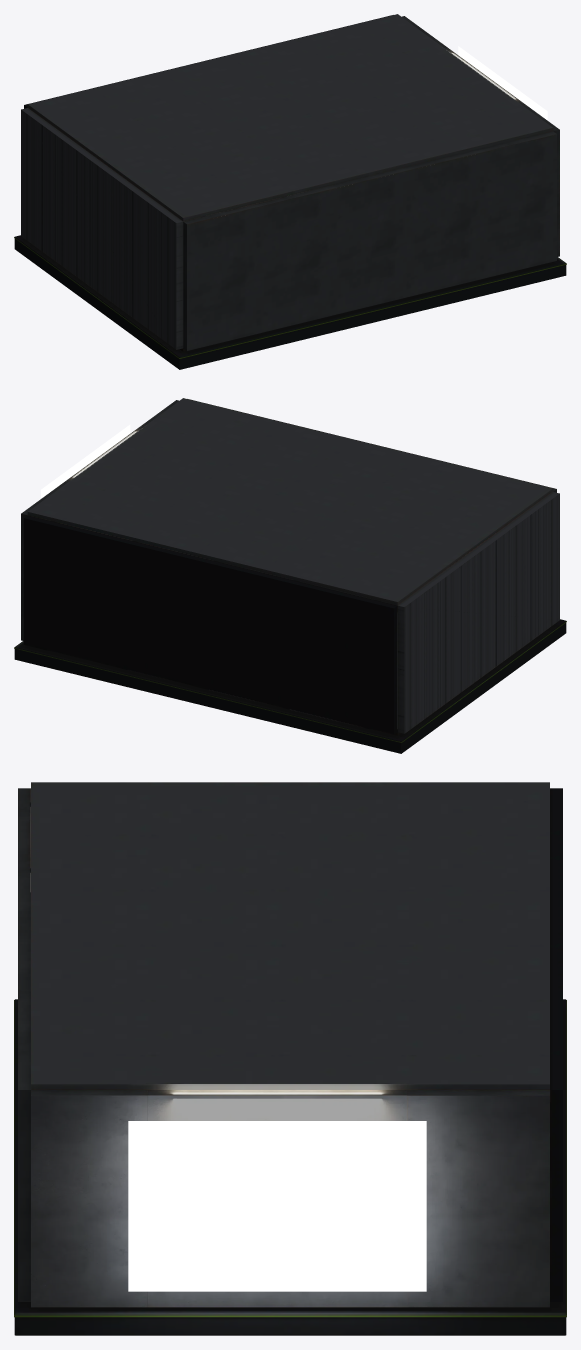
The model's file is conference.glb.
The picture shows the model from 3 angles, top to bottom: view 1: azimuth 30°, elevation 25°; view 2: azimuth 150°, elevation 25°; view 3: azimuth 270°, elevation 25°; orthographic projection. The views are drawn at different scales.
Visible parts, largest first — view 1: bake_ceiling, bake_wall_front, bake_wall_left, bake_floor, bake_wall_right, win_right0_sky; view 2: bake_ceiling, bake_wall_back, bake_wall_left, bake_floor, bake_wall_right, win_right0_sky; view 3: bake_ceiling, bake_wall_right, win_right0_sky, bake_floor, bake_wall_back, bake_wall_front.
Part boxes in pixels (box(x1,y1,x2,y2)): bake_ceiling: box(27, 14, 553, 221); bake_wall_front: box(183, 131, 556, 350); bake_wall_left: box(21, 108, 183, 349); bake_floor: box(14, 235, 566, 369); bake_wall_right: box(402, 16, 559, 256); win_right0_sky: box(458, 46, 547, 120); bake_ceiling: box(27, 398, 553, 605); bake_wall_back: box(24, 515, 397, 734); bake_wall_left: box(397, 492, 559, 733); bake_floor: box(14, 619, 566, 753); bake_wall_right: box(21, 400, 178, 640); win_right0_sky: box(41, 424, 130, 498); bake_ceiling: box(31, 782, 549, 1089); bake_wall_right: box(31, 1090, 549, 1307); win_right0_sky: box(128, 1121, 426, 1291); bake_floor: box(14, 999, 566, 1335); bake_wall_back: box(550, 788, 562, 1301); bake_wall_front: box(18, 788, 30, 1301).
Size of the model in its own units: 11.96 by 4.16 by 8.52.
21 materials, 12 textured.
